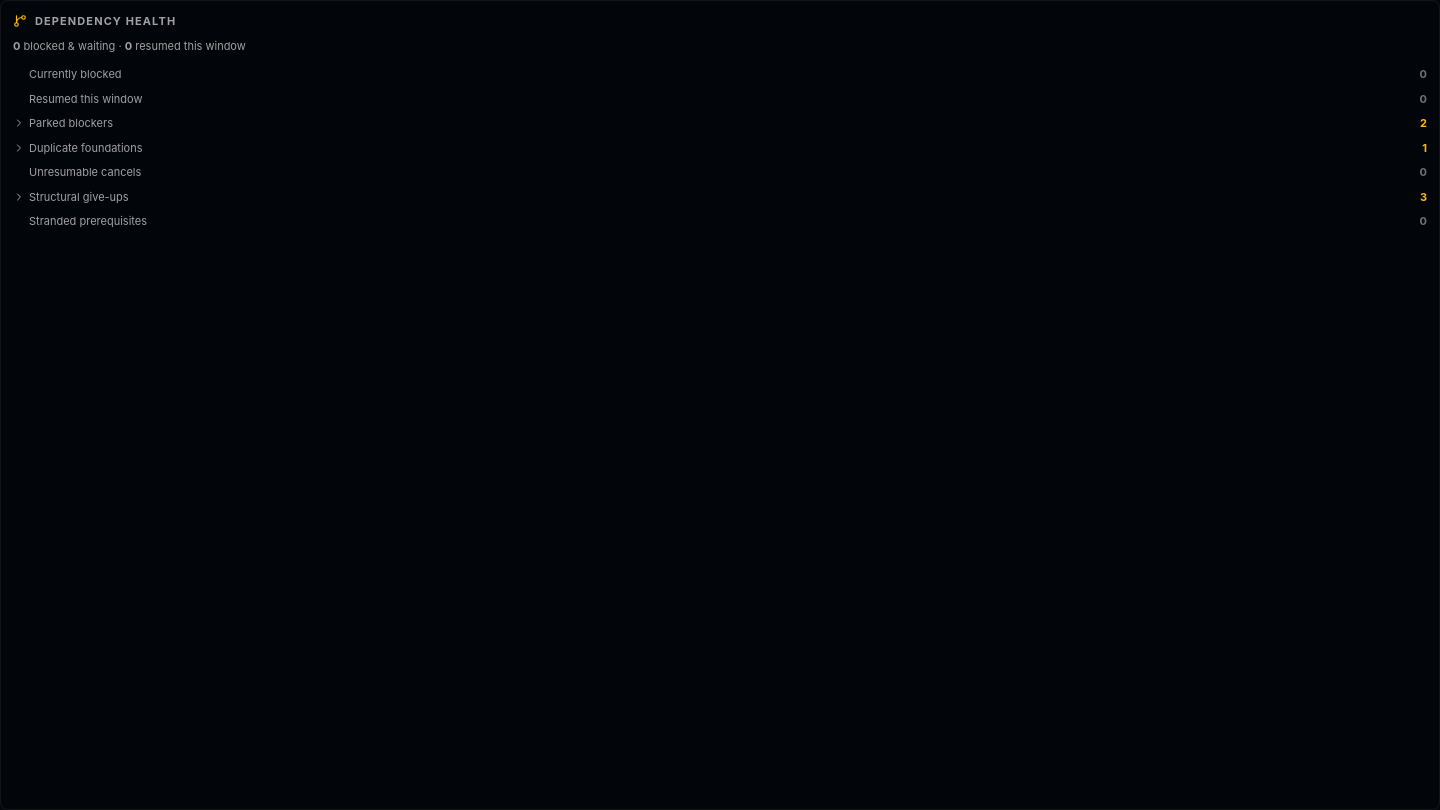
DependencyHealthCard › renders structural give-up row with count and expands to show by_reason and findings
This screenshot has width=1440, height=810.
Check: the text "out_of_scope" is not shown
Click the text "Structural give-ups": (71, 197) [13,188,129,205]
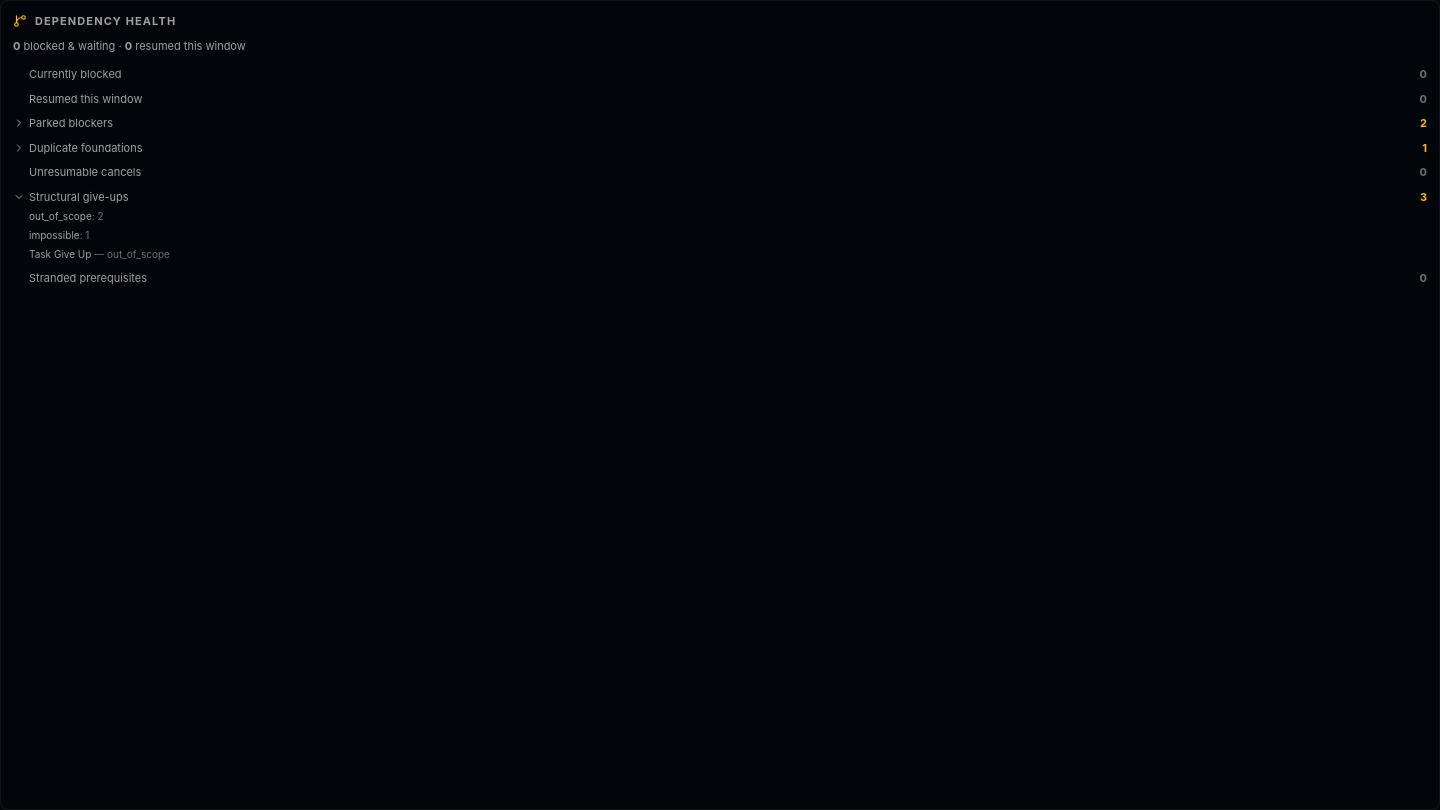
Check: the text "out_of_scope" is shown, box [29,210,92,222]
Check: the text "Task Give Up" is shown, box [29,248,91,260]
